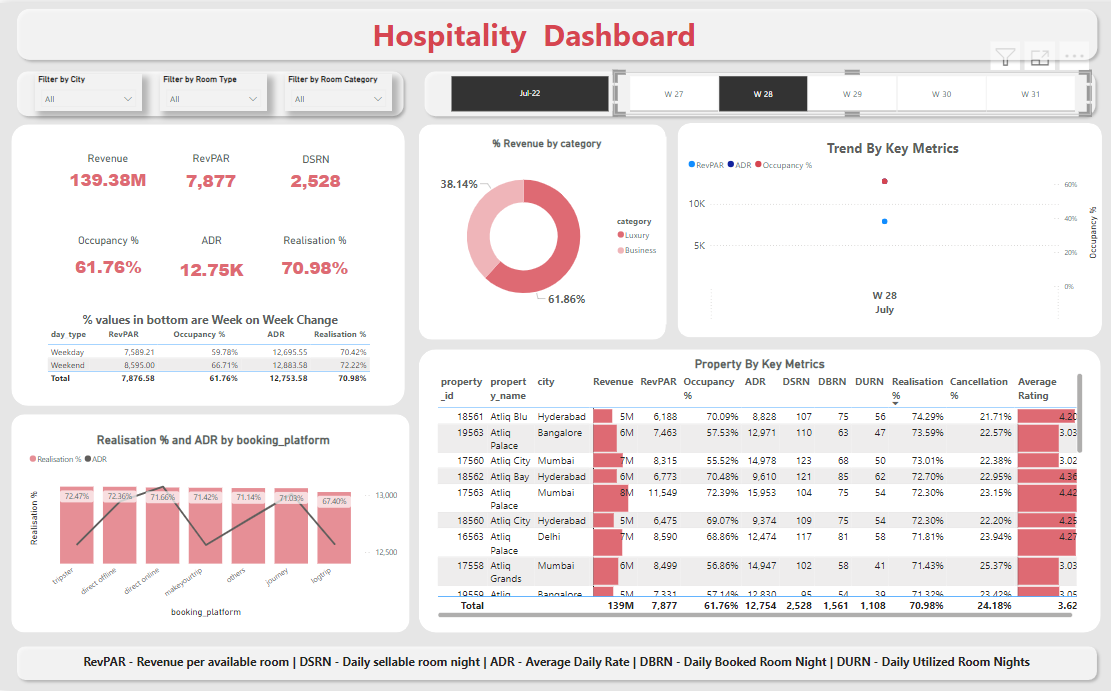

Layout of this report page (visuals, bound fields, positions):
{"tool":"powerbi","page":{"name":"Home","canvas":[1800,1100],"ordinal":0},"visuals":[{"type":"shape","box":[18.2,194.8,629.9,450.7],"z":0},{"type":"shape","box":[1083.9,191.8,679.1,343.3],"z":1000},{"type":"shape","box":[670.8,554.3,1091.4,453.4],"z":2000},{"type":"shape","box":[670.4,194.8,395.5,344.8],"z":3000},{"type":"shape","box":[18.2,659,637.3,349.3],"z":4000},{"type":"shape","box":[670,100,1091.7,90],"z":5000},{"type":"shape","box":[18.3,100.2,636.7,90],"z":6000},{"type":"tableEx","title":"Property By Key Metrics","fields":{"Values":["dim_hotels.property_id","dim_hotels.property_name","dim_hotels.city","Key_measure.Revenue","Key_measure.RevPAR","Key_measure.Occupancy %","Key_measure.ADR","Key_measure.DSRN","Key_measure.DBRN","Key_measure.DURN","Key_measure.Realisation %","Key_measure.Cancellation %"]},"box":[694.9,566.4,1043.1,422.4],"z":7000},{"type":"slicer","title":"Filter by City","fields":{"Values":["dim_hotels.city"]},"box":[55,114,171.7,58.3],"z":8000},{"type":"slicer","title":"Filter by Room Type","fields":{"Values":["dim_rooms.room_class"]},"box":[256.7,114,171.7,58.3],"z":9000},{"type":"slicer","fields":{"Values":["dim_date.mmm yy"]},"box":[695,110.2,301.7,70],"z":10000},{"type":"slicer","fields":{"Values":["dim_date.week no"]},"box":[981.7,110.2,761.7,70],"z":11000},{"type":"card","title":"Revenue","fields":{"Values":["Key_measure.Revenue"]},"box":[103.3,238.3,136.7,73.3],"z":12000},{"type":"donutChart","title":"% Revenue by category","fields":{"Y":["Key_measure.Revenue"],"Category":["dim_hotels.category"]},"box":[683.8,214.8,382,300],"z":13000},{"type":"lineStackedColumnComboChart","fields":{"Category":["fact_bookings.booking_platform"],"Y":["Key_measure.Realisation %"],"Y2":["Key_measure.ADR"]},"box":[42.1,688.8,598.5,300],"z":14000},{"type":"tableEx","title":"% values in bottom are Week on Week Change","fields":{"Values":["dim_date.day_type","Key_measure.RevPAR","Key_measure.Occupancy %","Key_measure.ADR","Key_measure.Realisation %"]},"box":[70,493.3,531.7,130],"z":15000},{"type":"card","title":"RevPAR","fields":{"Values":["Key_measure.RevPAR"]},"box":[267,238.3,143.3,75],"z":16000},{"type":"card","title":"DSRN","fields":{"Values":["Key_measure.DSRN"]},"box":[457.4,240,94.3,72.9],"z":17000},{"type":"card","title":"Occupancy %","fields":{"Values":["Key_measure.Occupancy %"]},"box":[90,370,166.7,85],"z":18000},{"type":"card","title":"ADR","fields":{"Values":["Key_measure.ADR"]},"box":[260.3,370,156.7,95],"z":19000},{"type":"card","title":"Realisation %","fields":{"Values":["Key_measure.Realisation %"]},"box":[428.3,370,151.7,88.3],"z":20000},{"type":"lineChart","title":"Trend By Key Metrics","fields":{"Category":["dim_date.date.Variation.Date Hierarchy.Month","dim_date.week no"],"Y":["Key_measure.RevPAR","Key_measure.ADR"],"Y2":["Key_measure.Occupancy %"]},"box":[1096.7,215,665,300],"z":21000},{"type":"shape","box":[18,1020,1746,72],"z":22000},{"type":"textbox","box":[128.3,1035,1545,43.3],"z":23000},{"type":"slicer","title":"Filter by Room Category","fields":{"Values":["dim_hotels.category"]},"box":[456.7,114,171.7,58.3],"z":24000},{"type":"shape","box":[18.3,0,1746.7,100],"z":25000},{"type":"textbox","box":[136.7,11.7,1463.3,76.7],"z":26000}]}

Visuals, with their boxes in screenshot pixels (x1, y1, x2, y2), scaled from the page's 1800x1100 canvas onto the 1111x691 screenshot:
shape: detection(11, 122, 400, 405)
shape: detection(669, 120, 1088, 336)
shape: detection(414, 348, 1088, 633)
shape: detection(414, 122, 658, 339)
shape: detection(11, 414, 405, 633)
shape: detection(414, 63, 1087, 119)
shape: detection(11, 63, 404, 119)
"Property By Key Metrics" tableEx: detection(429, 356, 1073, 621)
"Filter by City" slicer: detection(34, 72, 140, 108)
"Filter by Room Type" slicer: detection(158, 72, 264, 108)
slicer - dim_date.mmm yy: detection(429, 69, 615, 113)
slicer - dim_date.week no: detection(606, 69, 1076, 113)
"Revenue" card: detection(64, 150, 148, 196)
"% Revenue by category" donutChart: detection(422, 135, 658, 323)
lineStackedColumnComboChart - fact_bookings.booking_platform x Key_measure.Realisation %: detection(26, 433, 395, 621)
"% values in bottom are Week on Week Change" tableEx: detection(43, 310, 371, 392)
"RevPAR" card: detection(165, 150, 253, 197)
"DSRN" card: detection(282, 151, 341, 197)
"Occupancy %" card: detection(56, 232, 158, 286)
"ADR" card: detection(161, 232, 257, 292)
"Realisation %" card: detection(264, 232, 358, 288)
"Trend By Key Metrics" lineChart: detection(677, 135, 1087, 324)
shape: detection(11, 641, 1089, 686)
textbox: detection(79, 650, 1033, 677)
"Filter by Room Category" slicer: detection(282, 72, 388, 108)
shape: detection(11, 0, 1089, 63)
textbox: detection(84, 7, 988, 56)
